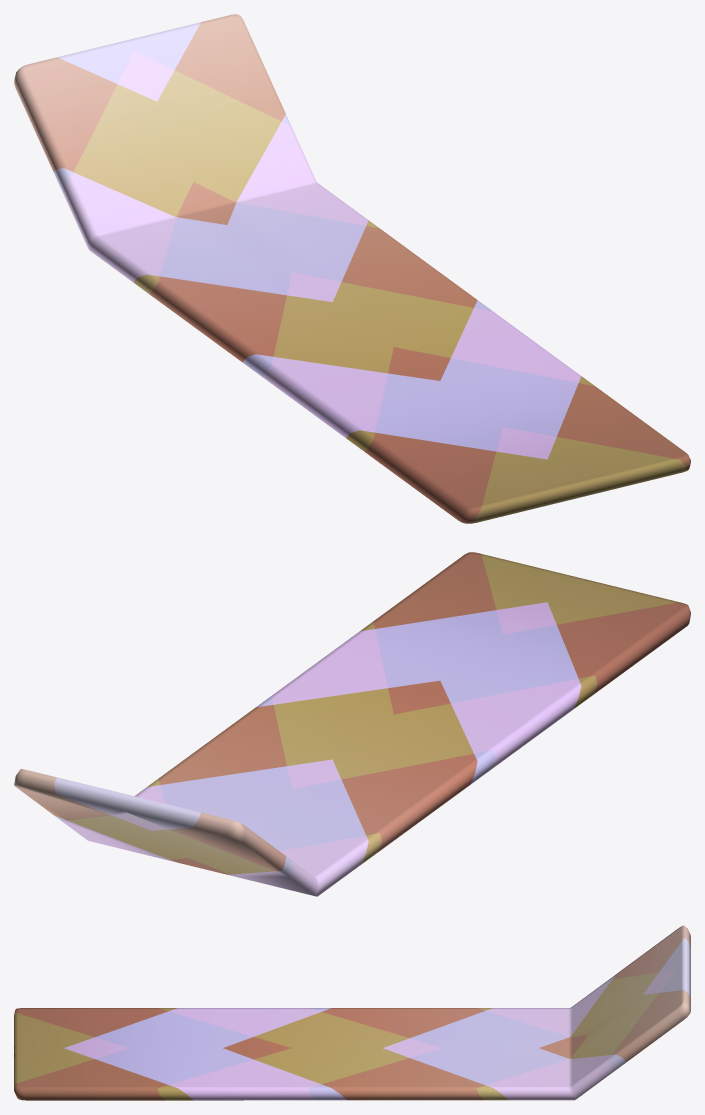
Rendered from SunLounger_Mattress_CheessDiagonal_A.fbx.
3 views of the same model, one above another, from view 1: azimuth 30°, elevation 25°; view 2: azimuth 150°, elevation 25°; view 3: azimuth 270°, elevation 25° (orthographic). The views are drawn at different scales.
Parts seen in each view (by area): view 1: SunLounger_Mattress_CheessDiagonal_A; view 2: SunLounger_Mattress_CheessDiagonal_A; view 3: SunLounger_Mattress_CheessDiagonal_A.
Boxes of the visible parts, x1,y1,x2,y2 form: SunLounger_Mattress_CheessDiagonal_A: [14, 14, 690, 523]; SunLounger_Mattress_CheessDiagonal_A: [14, 552, 690, 896]; SunLounger_Mattress_CheessDiagonal_A: [14, 925, 690, 1100].
Bounding box in the file's own units: 45.43 × 24.42 × 157.
